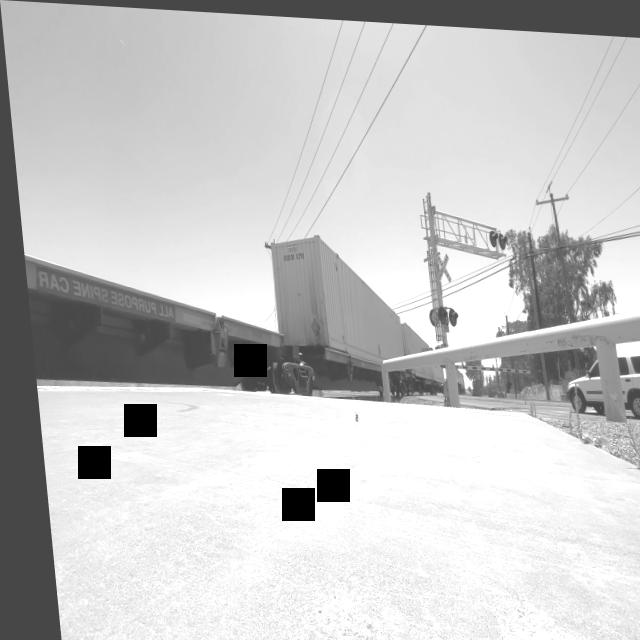container: (263, 229, 400, 370)
flatcar: (18, 240, 284, 403)
